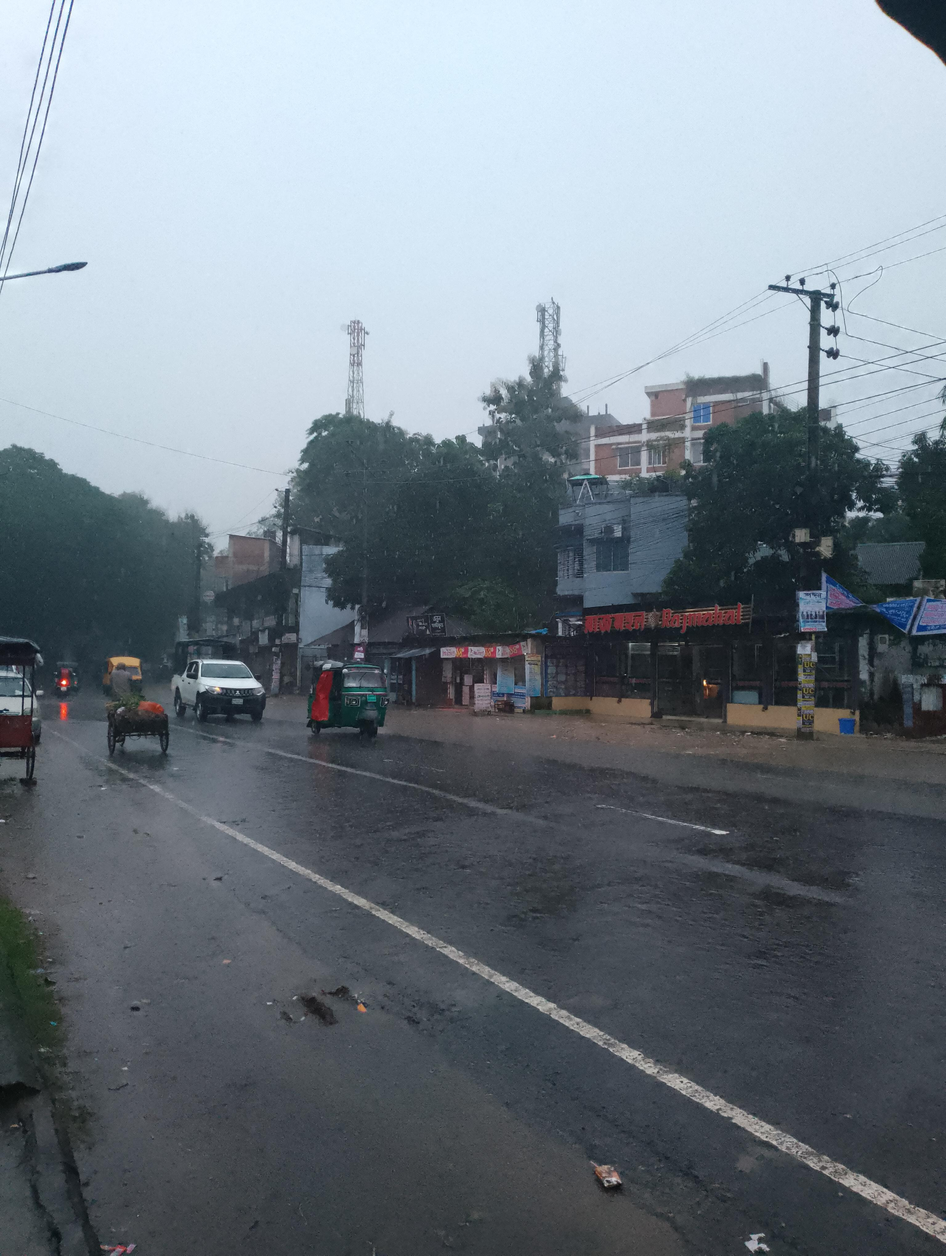Car: (163, 657, 275, 739)
